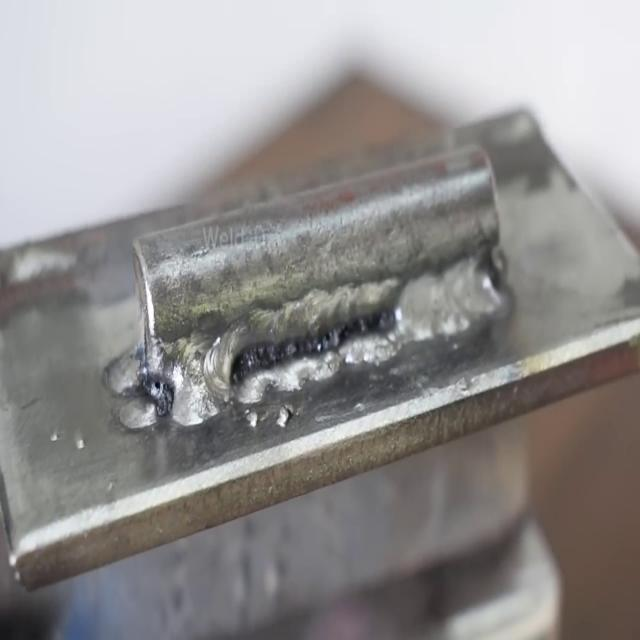Bad Weld: (103, 273, 443, 433)
Defect: (226, 305, 396, 391), (133, 370, 182, 420)
